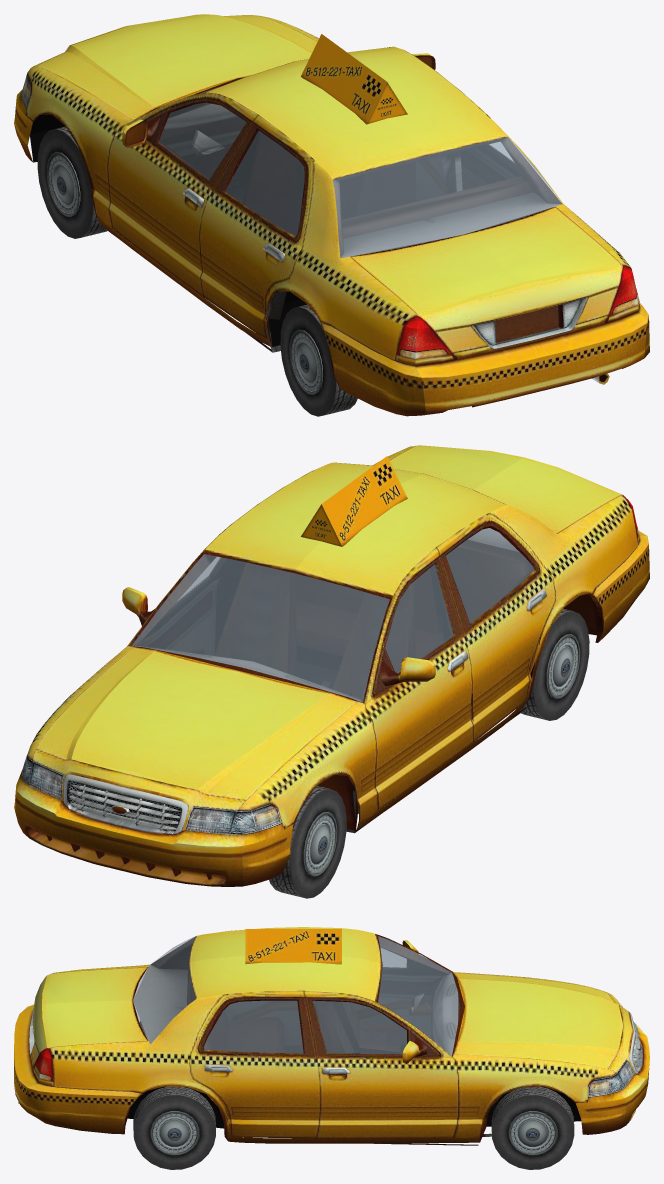
File: taxi.glb
The picture shows the model from 3 angles, top to bottom: view 1: azimuth 30°, elevation 25°; view 2: azimuth 150°, elevation 25°; view 3: azimuth 270°, elevation 25°; orthographic projection. The views are drawn at different scales.
Parts seen in each view (by area): view 1: Body_Body_0, Salon_Salon_0, Glass_Glass_0, Capot_R_Body_0, Bumper_R_Body_0, Capot_F_Body_0, Door_F_Body_0, Door_R_Body_0, wheel_rl (×2), wheel_fl (×2), Checker_Checker_0, Bumper_F_Body_0; view 2: Body_Body_0, Glass_Glass_0, Salon_Salon_0, Capot_F_Body_0, Door_F_Body_0, Bumper_F_Body_0, Door_R_Body_0, Capot_R_Body_0, wheel_fl (×2), wheel_rl (×2), Checker_Checker_0, Bumper_R_Body_0; view 3: Body_Body_0, Glass_Glass_0, Salon_Salon_0, Door_F_Body_0, Capot_F_Body_0, Door_R_Body_0, Capot_R_Body_0, wheel_rr (×2), wheel_fr (×2), Bumper_R_Body_0, Checker_Checker_0, Bumper_F_Body_0.
Part boxes in pixels (x1,y1,x2,y2): Body_Body_0: (21,15,639,366); Salon_Salon_0: (115,102,561,333); Glass_Glass_0: (158,87,561,258); Capot_R_Body_0: (350,206,622,359); Bumper_R_Body_0: (320,303,649,416); Capot_F_Body_0: (36,14,317,119); Door_F_Body_0: (107,53,435,296); Door_R_Body_0: (199,116,512,338); wheel_rl (×2): (280,305,357,416); wheel_fl (×2): (37,126,107,238); Checker_Checker_0: (301,34,407,124); Bumper_F_Body_0: (14,89,32,161); Body_Body_0: (21,446,640,834); Glass_Glass_0: (132,528,534,702); Salon_Salon_0: (132,528,543,790); Capot_F_Body_0: (36,647,357,800); Door_F_Body_0: (121,548,473,809); Bumper_F_Body_0: (14,769,293,886); Door_R_Body_0: (438,514,555,741); Capot_R_Body_0: (389,445,622,533); wheel_fl (×2): (269,785,346,898); wheel_rl (×2): (516,609,589,720); Checker_Checker_0: (301,456,407,546); Bumper_R_Body_0: (588,531,649,642); Body_Body_0: (33,927,642,1143); Glass_Glass_0: (133,936,459,1055); Salon_Salon_0: (133,936,459,1138); Door_F_Body_0: (303,940,458,1138); Capot_F_Body_0: (453,973,623,1069); Door_R_Body_0: (190,992,320,1138); Capot_R_Body_0: (29,967,147,1068); wheel_rr (×2): (133,1086,215,1169); wheel_fr (×2): (491,1086,574,1169); Bumper_R_Body_0: (14,1004,142,1134); Checker_Checker_0: (245,929,341,964); Bumper_F_Body_0: (575,1025,649,1134).
Bounding box in the file's own units: 77.13 × 62.58 × 185.
6 materials, 5 textured.
